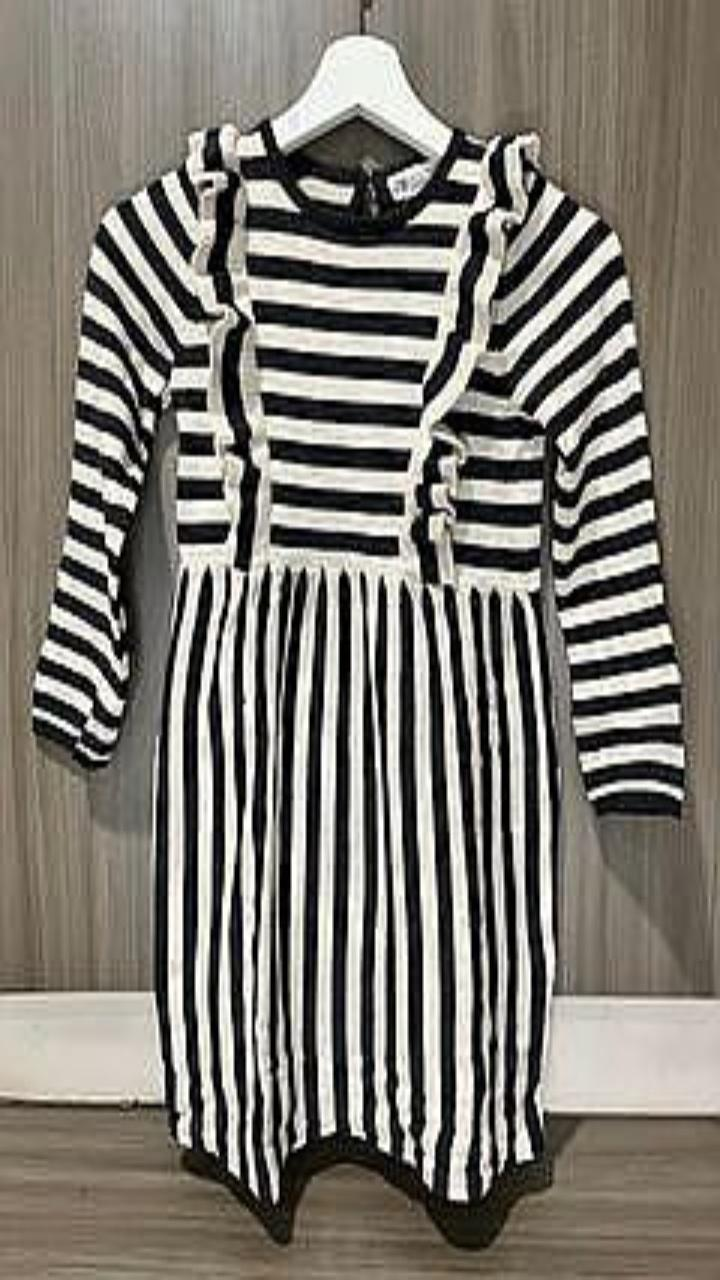Dresses: (32, 118, 683, 1210)
